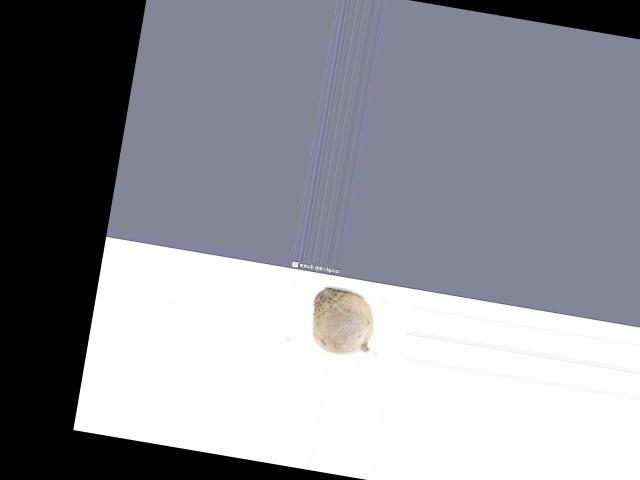beet: (306, 285, 379, 359)
